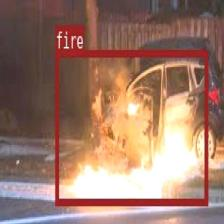fire: (55, 48, 208, 204)
